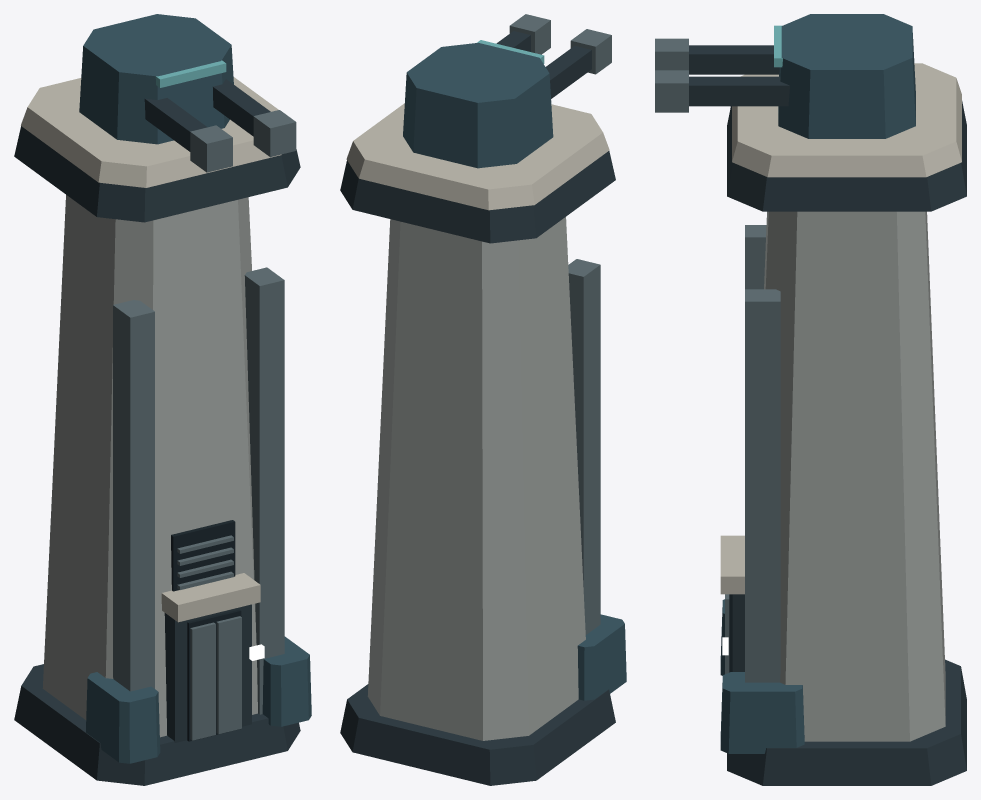
The model's file is outpost_t4.glb.
3 views of the same model, side by side, from view 1: azimuth 30°, elevation 25°; view 2: azimuth 150°, elevation 25°; view 3: azimuth 270°, elevation 25° (orthographic). The views are drawn at different scales.
Parts seen in each view (by area): view 1: body, part_turret; view 2: body, part_turret; view 3: body, part_turret.
Part boxes in pixels (box(x1,y1,x2,y2)): body: box(14, 77, 311, 785); part_turret: box(79, 14, 296, 172); body: box(340, 103, 626, 785); part_turret: box(403, 14, 611, 168); body: box(720, 63, 966, 785); part_turret: box(655, 14, 915, 138).
Bounding box in the file's own units: 1.48 × 4.72 × 1.93.
